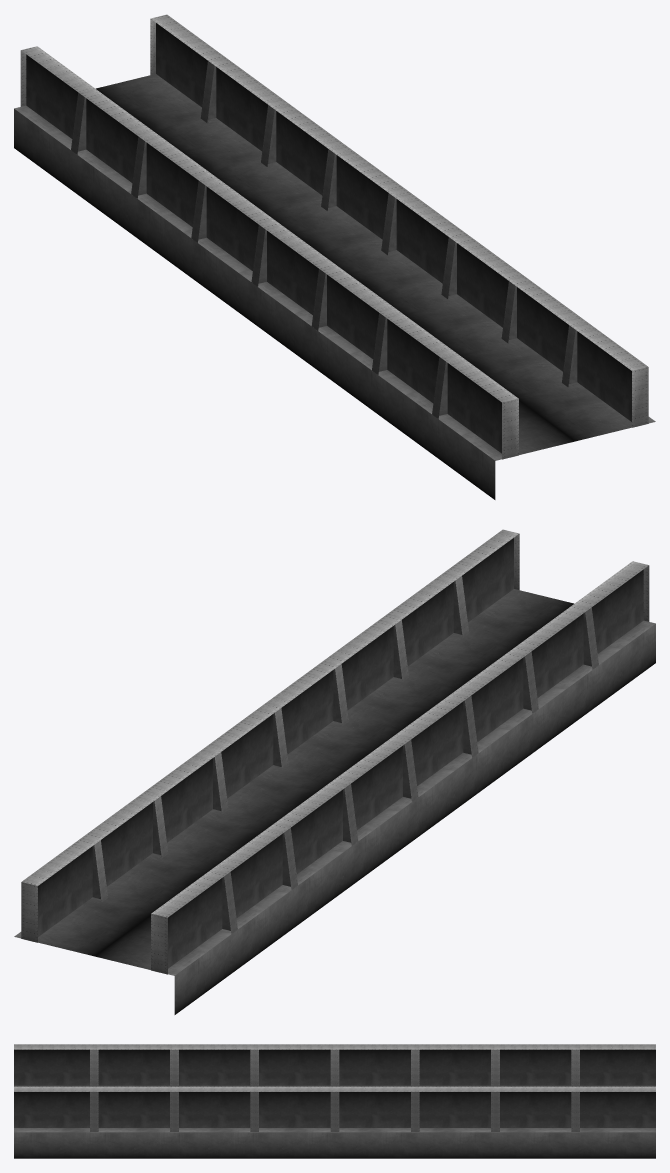
The model's file is AMB_1RAIL_BRIDGE.glb.
The picture shows the model from 3 angles, top to bottom: view 1: azimuth 30°, elevation 25°; view 2: azimuth 150°, elevation 25°; view 3: azimuth 270°, elevation 25°; orthographic projection. The views are drawn at different scales.
Visible parts, largest first — view 1: BASE; view 2: BASE; view 3: BASE.
Part boxes in pixels (x1,y1,x2,y2): BASE: [14, 14, 655, 499]; BASE: [14, 529, 655, 1014]; BASE: [14, 1044, 655, 1158].
Bounding box in the file's own units: 9.62 × 5.51 × 50.
Materials: 2 (2 with a texture image).
